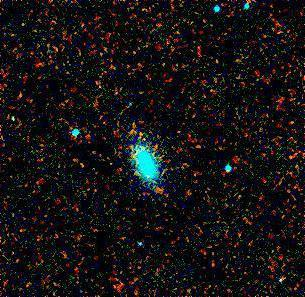star: (148, 175, 178, 205)
